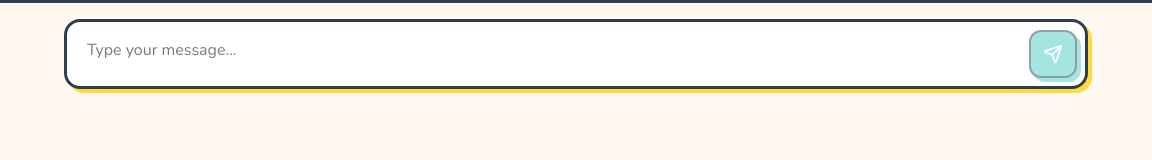
ChatInput › sends message when send button is clicked
Type "Hello world" into the text box with placeholder "Type your message..." at [546, 54], box [75,30,1017,78]
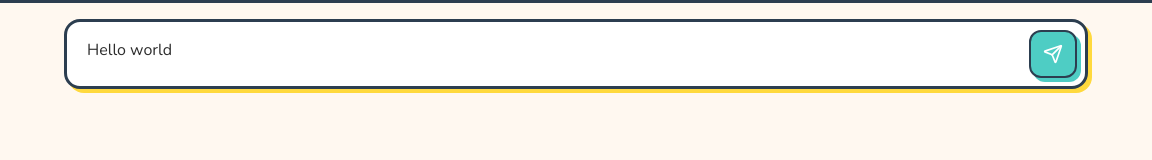
Click the button titled "Send message" at [1053, 54], box [1029,30,1077,78]
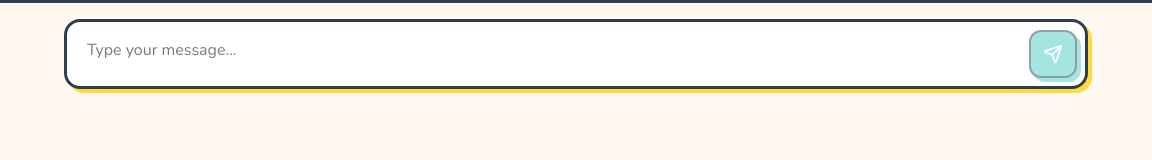
expect the text box with placeholder "Type your message..." is empty: met, box [75,30,1017,78]
